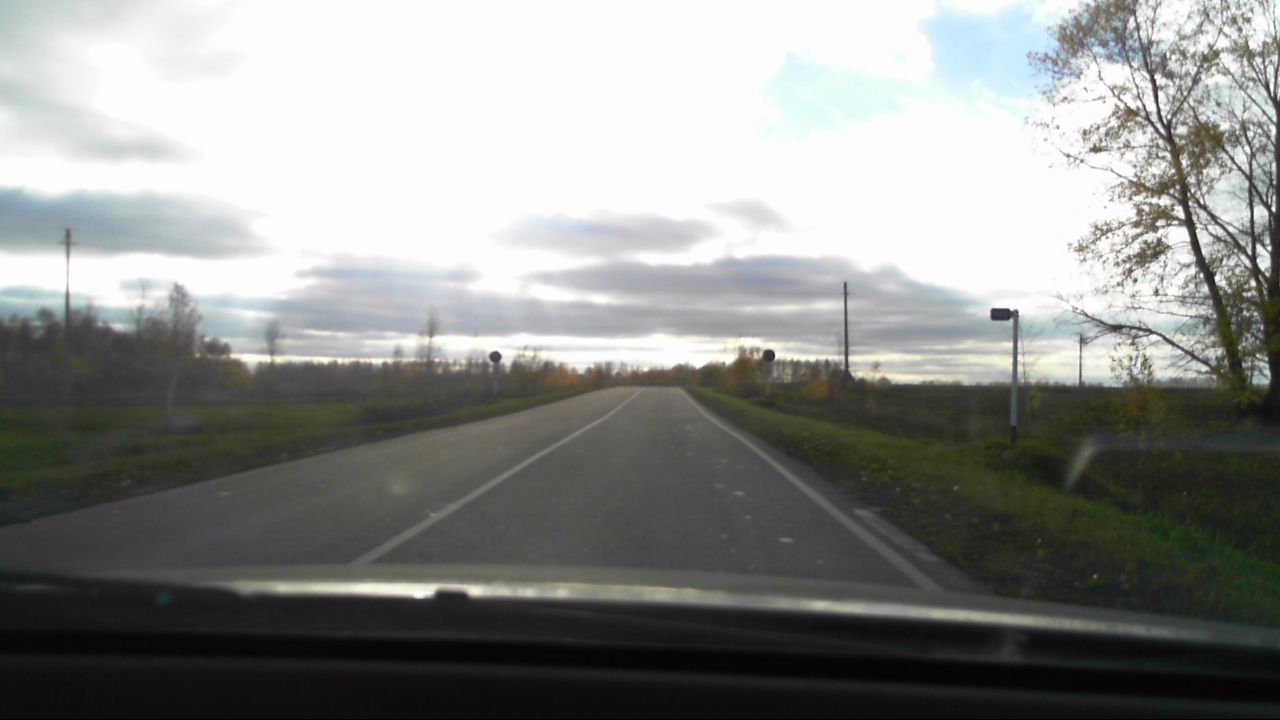No Parking: (760, 347, 778, 366)
